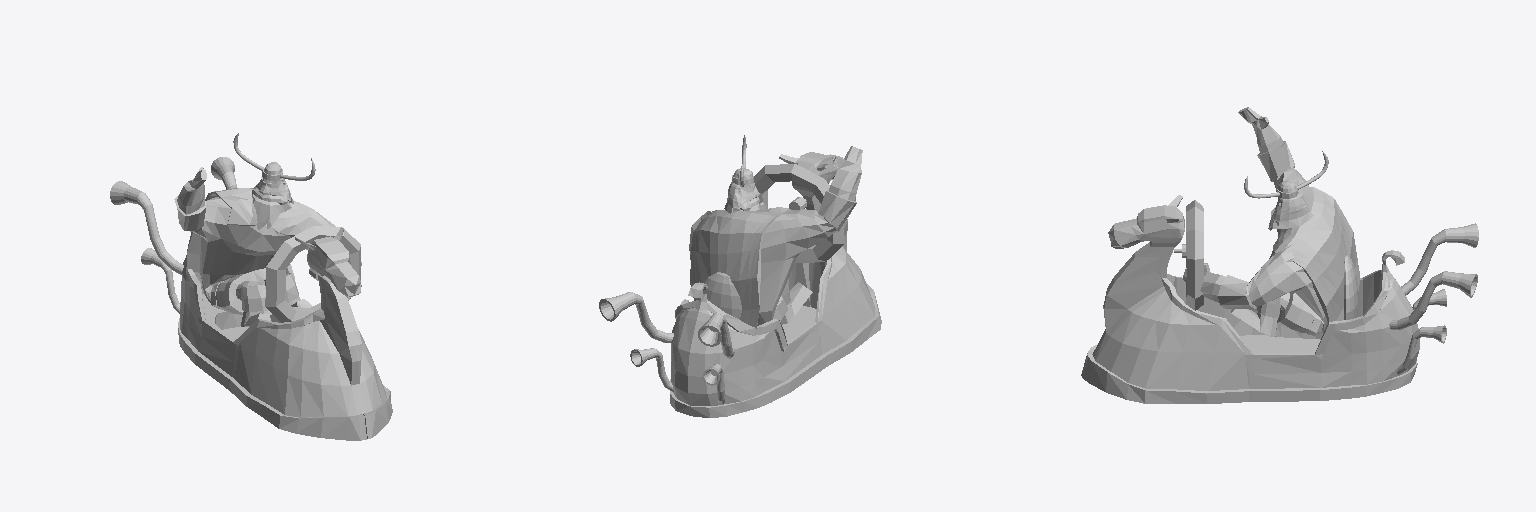
Rendered from vikingoVacile_000452.obj.
3 renders of one model, left to right at view 1: azimuth 30°, elevation 25°; view 2: azimuth 150°, elevation 25°; view 3: azimuth 270°, elevation 25°, orthographic.
Parts seen in each view (by area): view 1: kartVikingo, Vikingo; view 2: kartVikingo, Vikingo; view 3: kartVikingo, Vikingo.
Boxes of the visible parts, <box> form: kartVikingo: <box>110,157,392,440</box>; Vikingo: <box>174,133,361,326</box>; kartVikingo: <box>599,152,881,417</box>; Vikingo: <box>689,135,862,328</box>; kartVikingo: <box>1081,195,1478,403</box>; Vikingo: <box>1183,107,1359,336</box>.
Size of the model in its own units: 4.96 by 6.58 by 10.31.